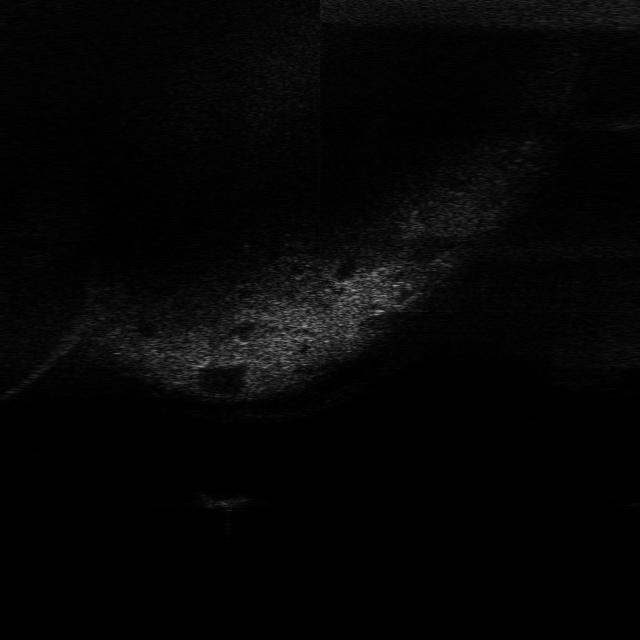cube: (191, 487, 253, 516)
